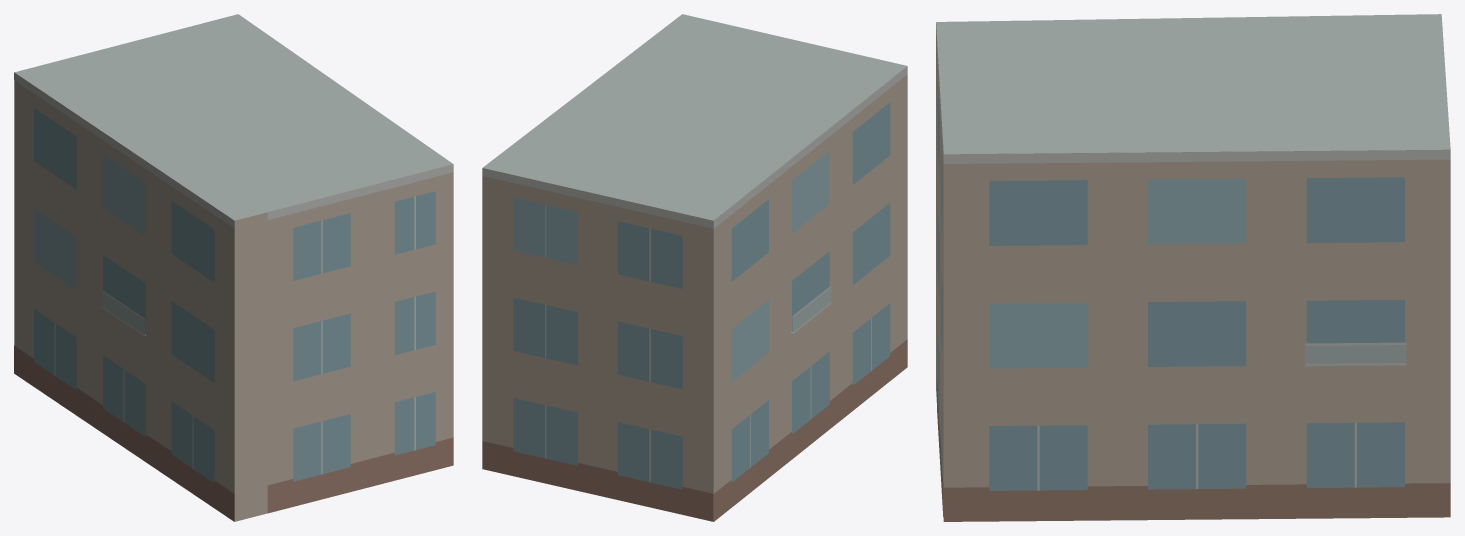
The model's file is survey-upis-32718318.glb.
The picture shows the model from 3 angles, left to right: view 1: azimuth 30°, elevation 25°; view 2: azimuth 150°, elevation 25°; view 3: azimuth 270°, elevation 25°; orthographic projection. The views are drawn at different scales.
Parts seen in each view (by area): view 1: survey-upis-32718318.tmp; view 2: survey-upis-32718318.tmp; view 3: survey-upis-32718318.tmp.
Part boxes in pixels (<box>): survey-upis-32718318.tmp: <box>14,14,453,521</box>; survey-upis-32718318.tmp: <box>482,14,907,521</box>; survey-upis-32718318.tmp: <box>936,14,1450,521</box>.
Bounding box in the file's own units: 7.5 × 9.15 × 11.62.
